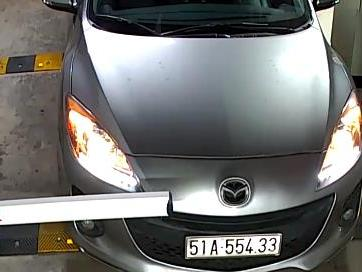number: (184, 234, 282, 260)
